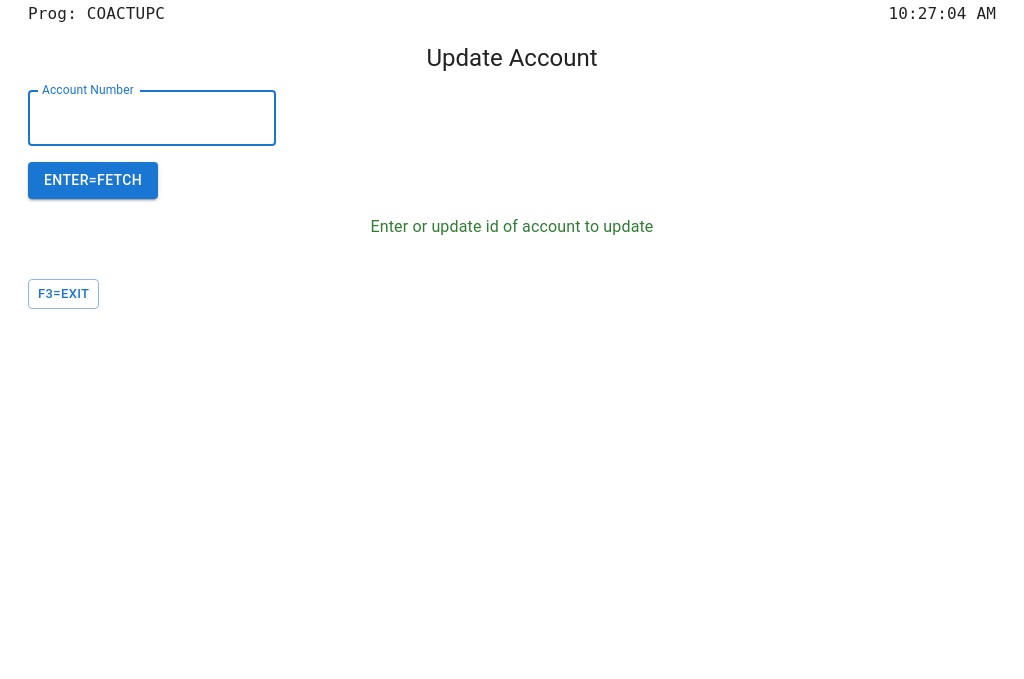
Test case: CAUP account update › 1205 / 3250 / 3390: displays no-change and edit-error messages without losing the operator edits
The image size is (1024, 679).
Type "00000000042" into the field labelled "Account Number".
click(152, 118); type("00000000042")  # box [28, 90, 276, 146]
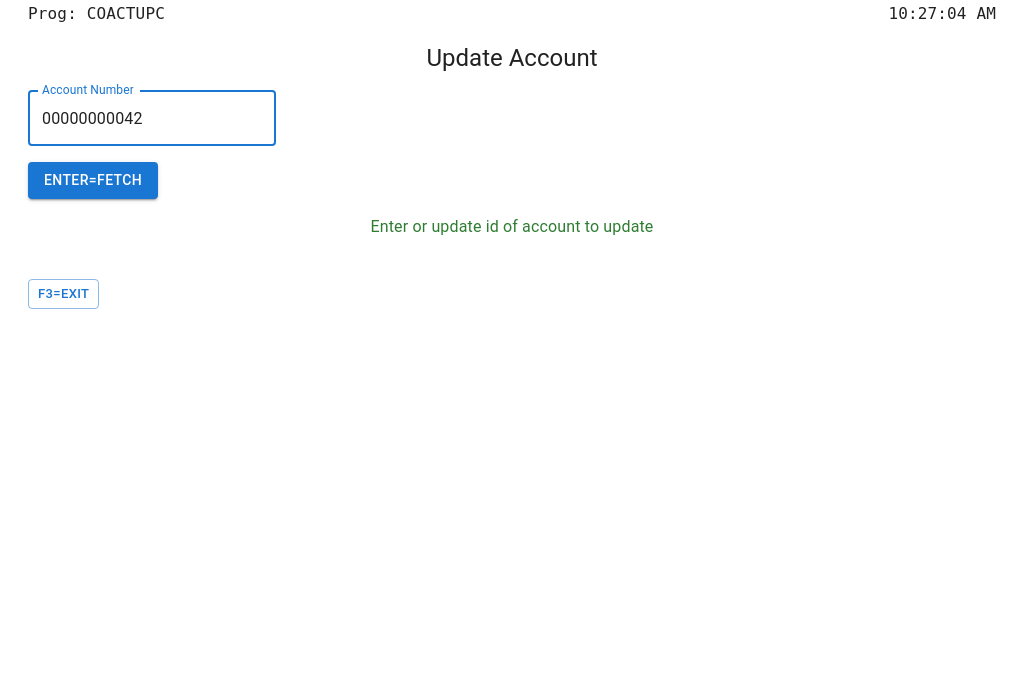
Press Enter in the field labelled "Account Number", box [28, 90, 276, 146]
(page scrolled)
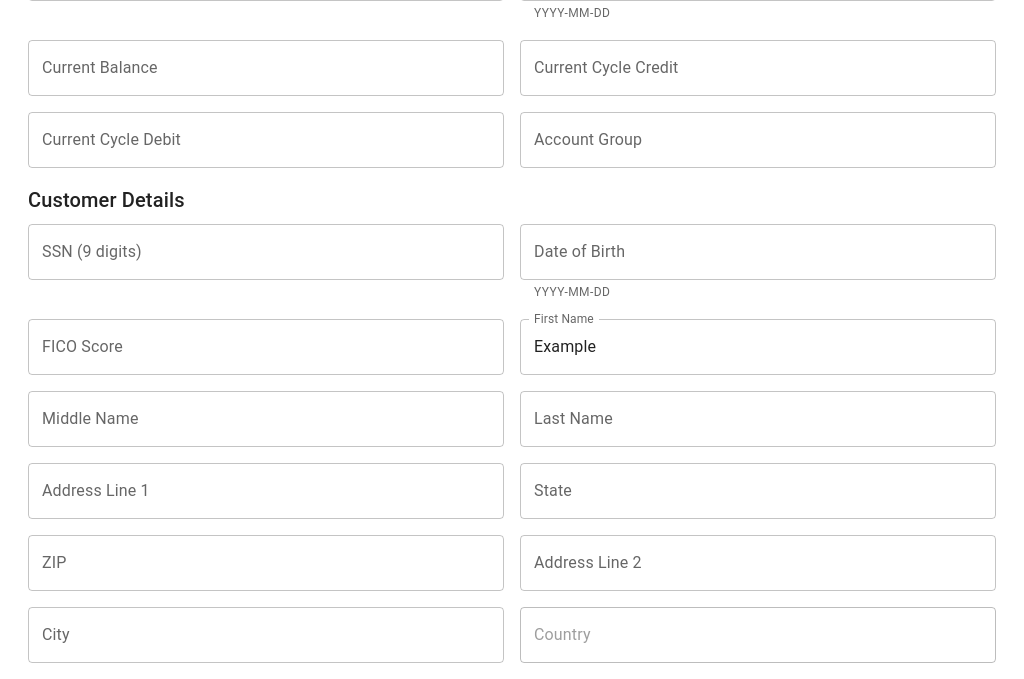
Check: the field labelled "First Name" is shown
Press Enter in the field labelled "First Name", box [520, 319, 996, 375]
Press Enter in the field labelled "First Name", box [520, 319, 996, 375]
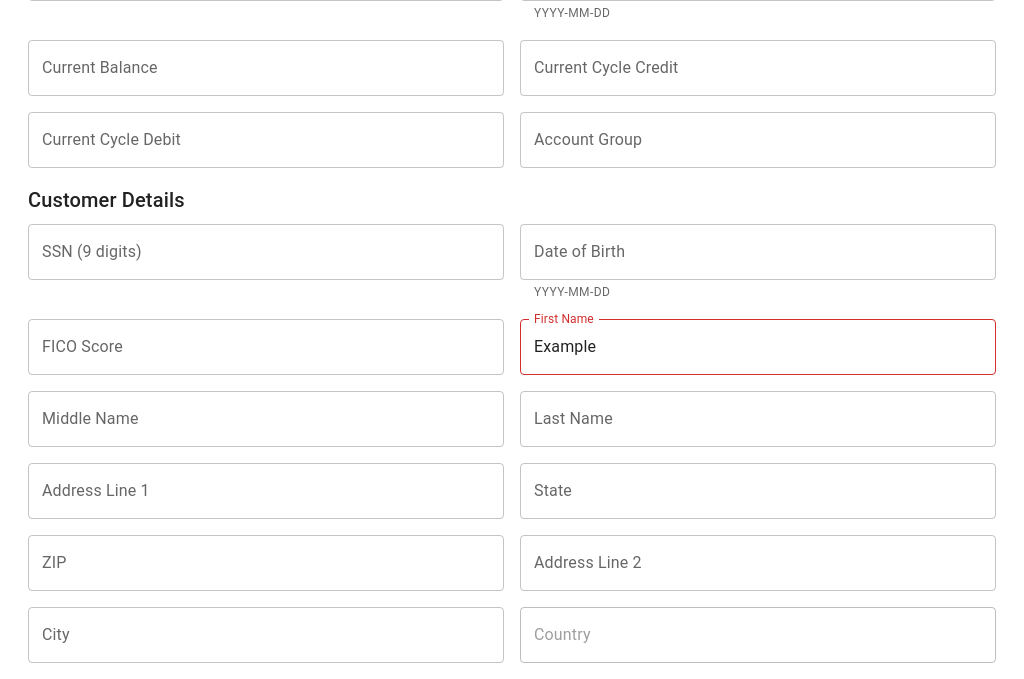
Check: the field labelled "First Name" is marked as invalid, box [520, 319, 996, 375]
